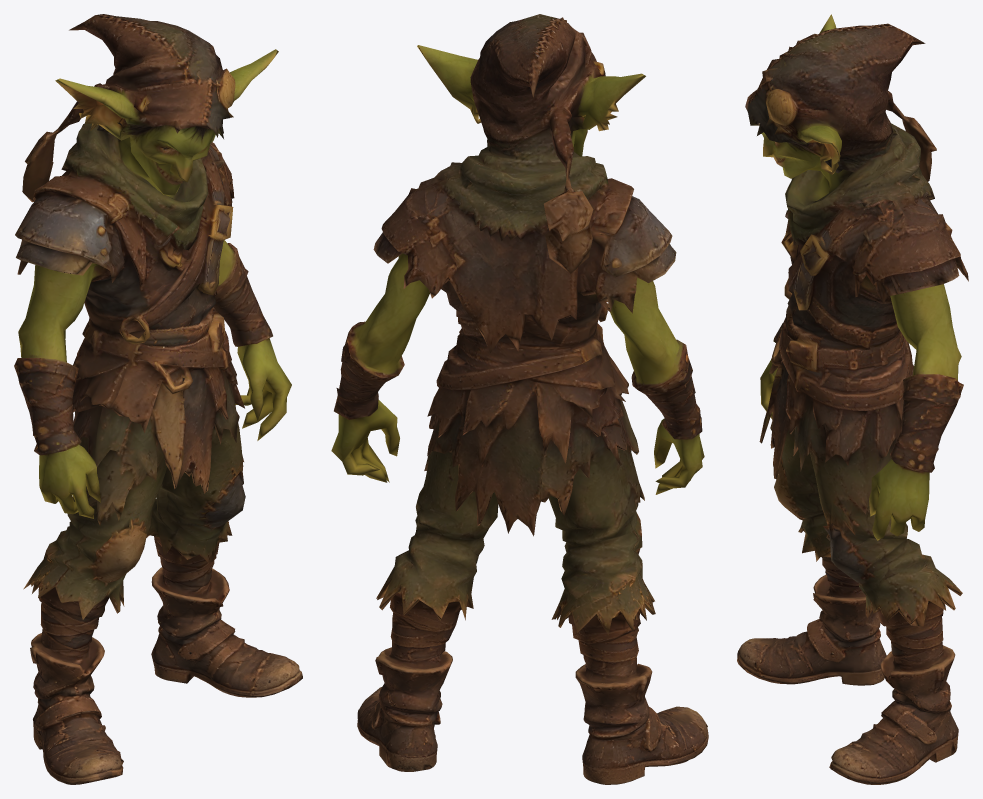
Rendered from goblin.glb.
The picture shows the model from 3 angles, left to right: view 1: azimuth 30°, elevation 25°; view 2: azimuth 150°, elevation 25°; view 3: azimuth 270°, elevation 25°; orthographic projection. The views are drawn at different scales.
Parts seen in each view (by area): view 1: tripo_node_f332a8ce-0512-43b3-a7b6-e11591890948; view 2: tripo_node_f332a8ce-0512-43b3-a7b6-e11591890948; view 3: tripo_node_f332a8ce-0512-43b3-a7b6-e11591890948.
Boxes of the visible parts, x1,y1,x2,y2 form: tripo_node_f332a8ce-0512-43b3-a7b6-e11591890948: (14, 14, 302, 784); tripo_node_f332a8ce-0512-43b3-a7b6-e11591890948: (331, 14, 708, 784); tripo_node_f332a8ce-0512-43b3-a7b6-e11591890948: (737, 14, 968, 784).
Size of the model in its own units: 0.4512 by 0.9991 by 0.3085.
1 material, 1 textured.
